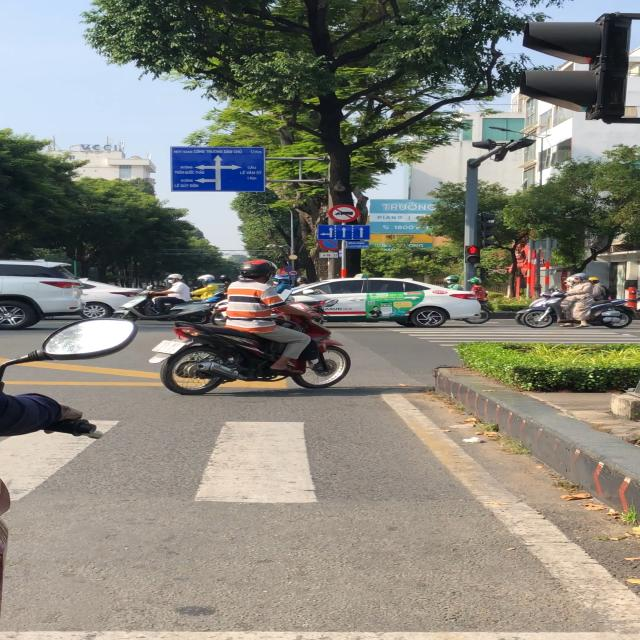Bien bao cam xe so-mi ro-mooc: (327, 203, 360, 224)
